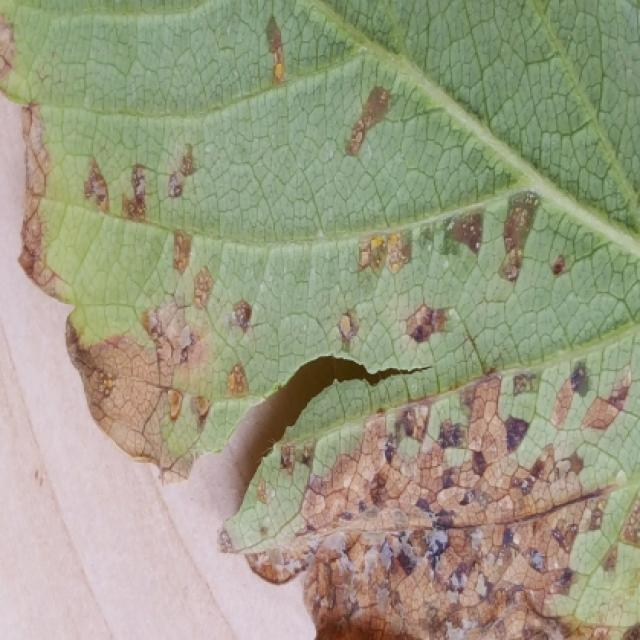Angular Leafspot: (0, 2, 638, 638)
